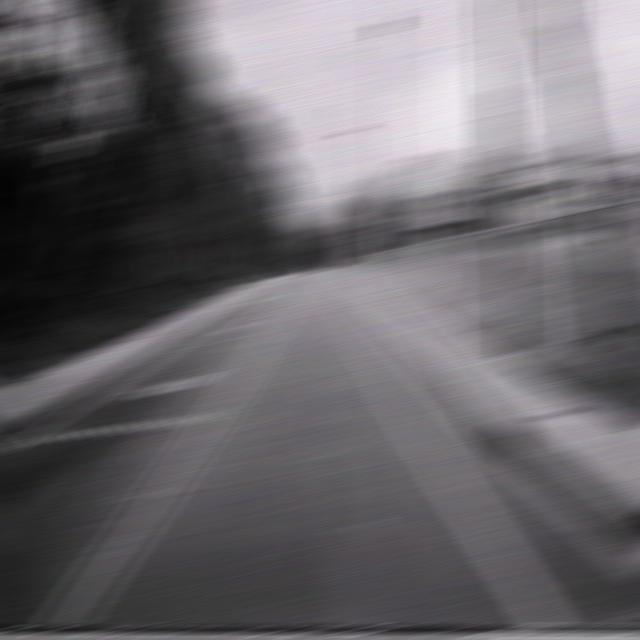speedLimit35: (489, 139, 528, 191)
